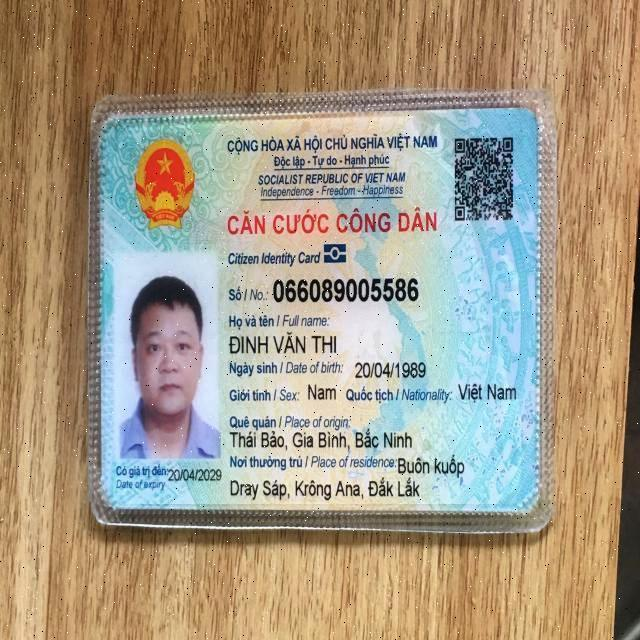current_place: (229, 474, 424, 501), (396, 454, 465, 479)
dob: (354, 356, 427, 380)
expire_date: (167, 463, 221, 483)
gender: (303, 383, 341, 399)
id: (271, 269, 426, 307)
name: (228, 328, 339, 356)
nationality: (453, 377, 519, 406)
origin_place: (230, 428, 414, 453)
qr: (449, 134, 520, 224)
